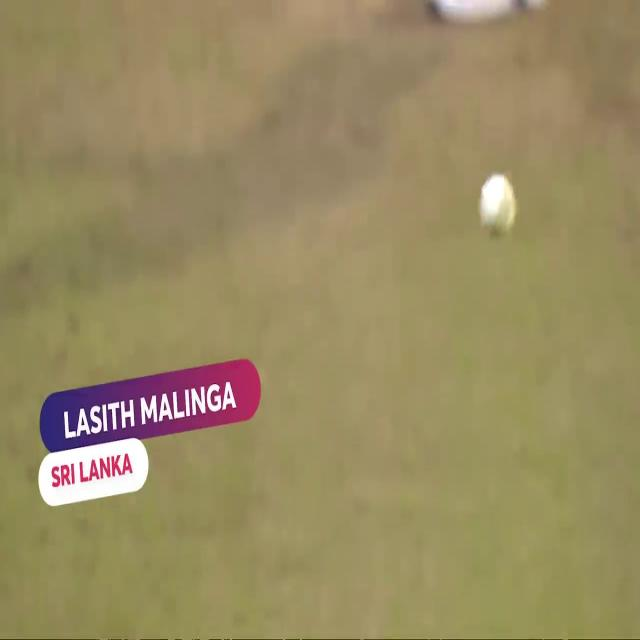ball: (481, 175, 517, 242)
